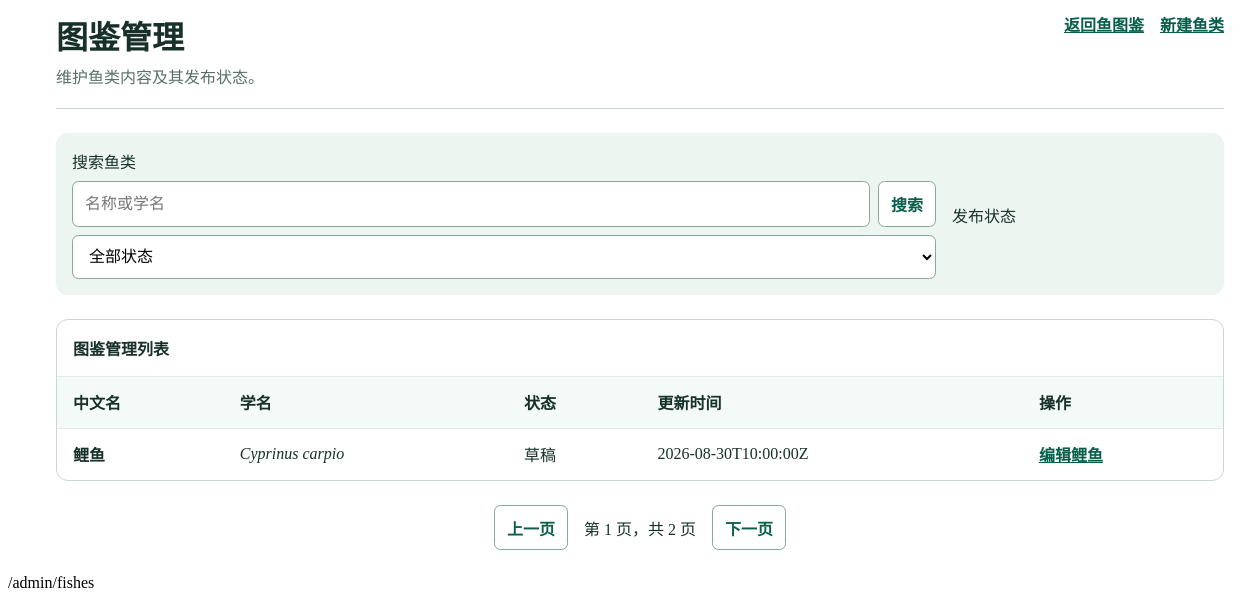
uses pagination metadata to update the URL
Expected: the button "上一页" is disabled, left=494, top=505, right=568, bottom=550
Click the button "下一页": (749, 528) left=712, top=505, right=786, bottom=550
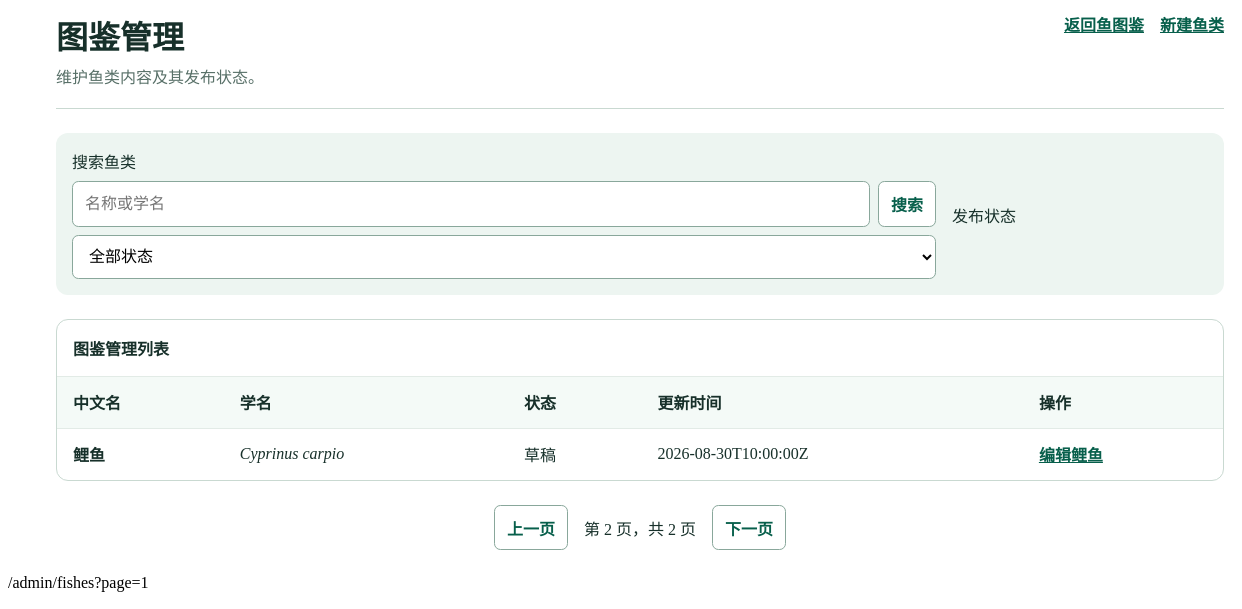
Expected: the text with test id "location" reads "/admin/fishes?page=1", left=8, top=574, right=148, bottom=591
